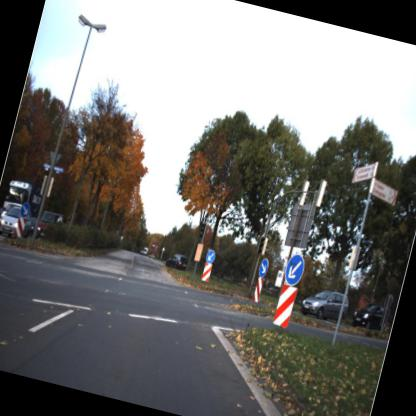mandatory: (283, 249, 311, 289), (256, 254, 274, 280), (201, 246, 219, 268), (18, 202, 32, 220)
